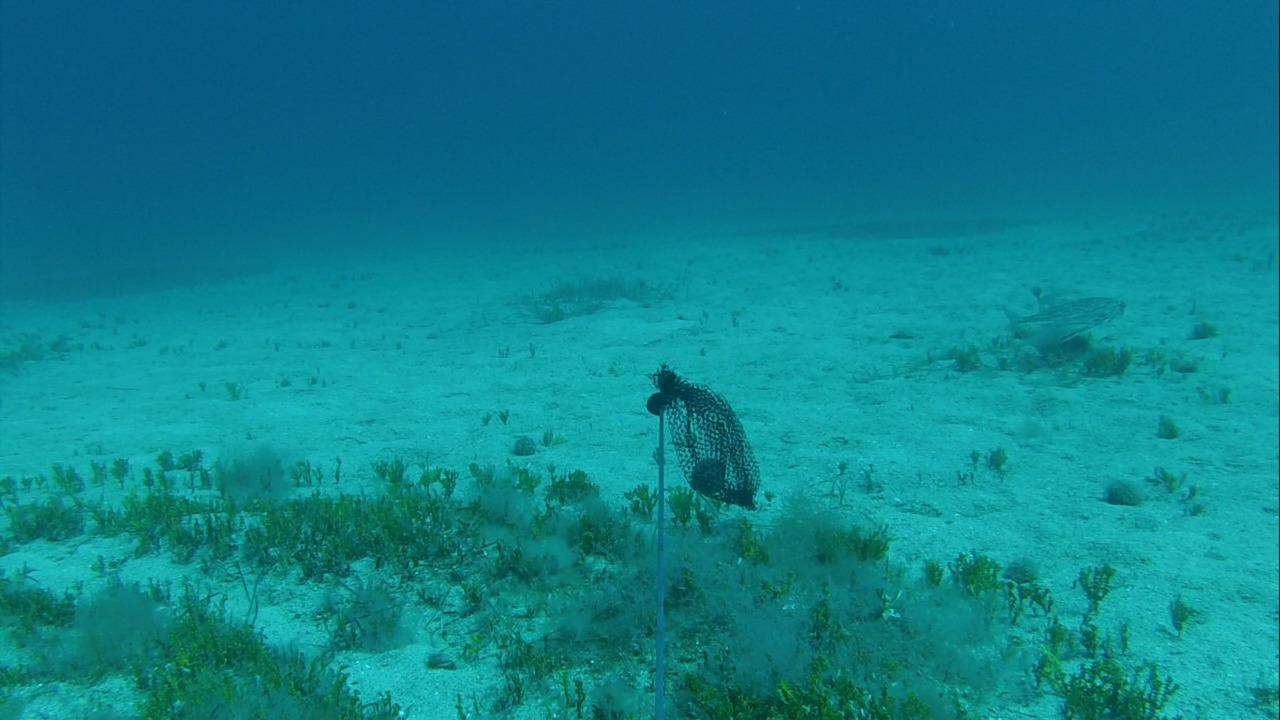dactylopterus: (992, 289, 1135, 345)
